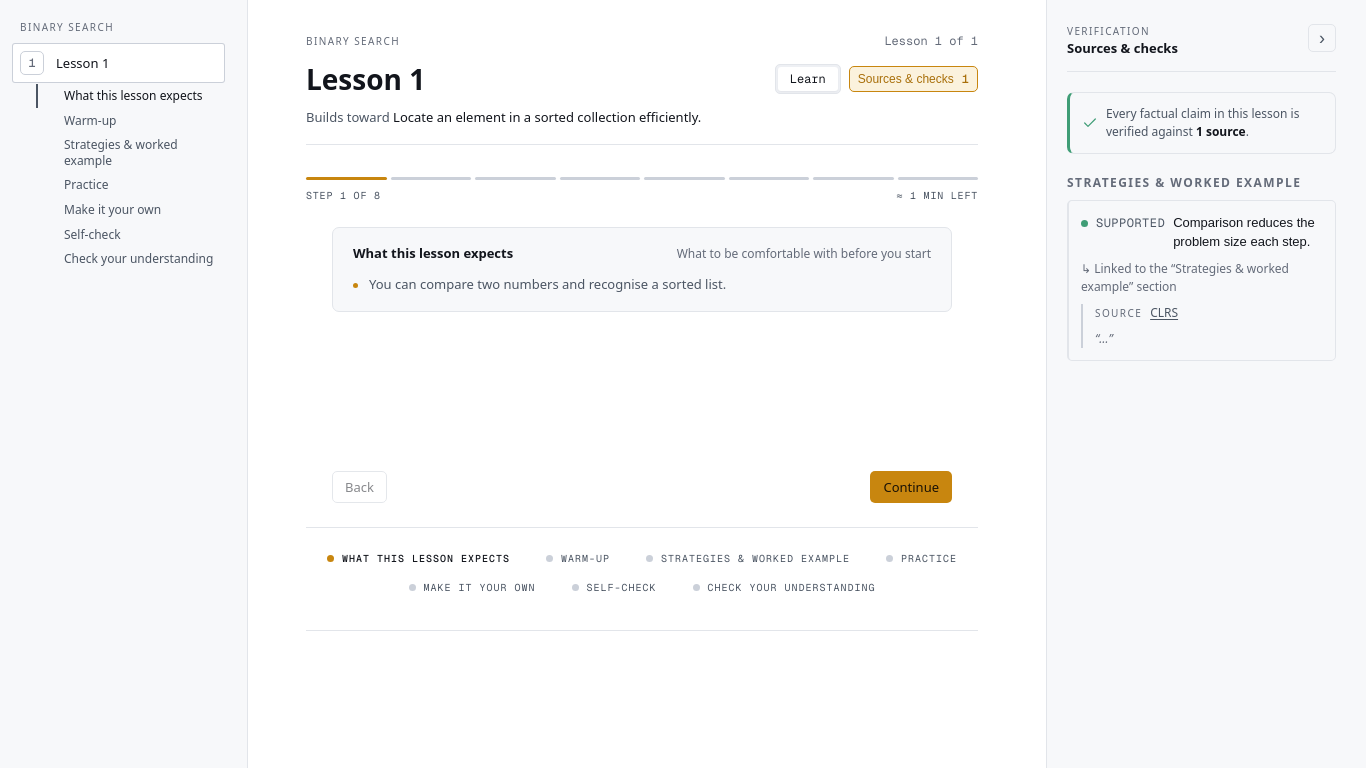
Test: CourseReader — claim → lesson backlink › jumps the Focus Flow to the claim's phase when its rail entry is clicked
Expected: the list item "You can compare two numbers and recognise a sorted list." is shown, [369,275,726,293]
Click the button named "Locate in the lesson: Comparison reduces the problem size each step." at [1202, 232], box [1081,212,1323,252]
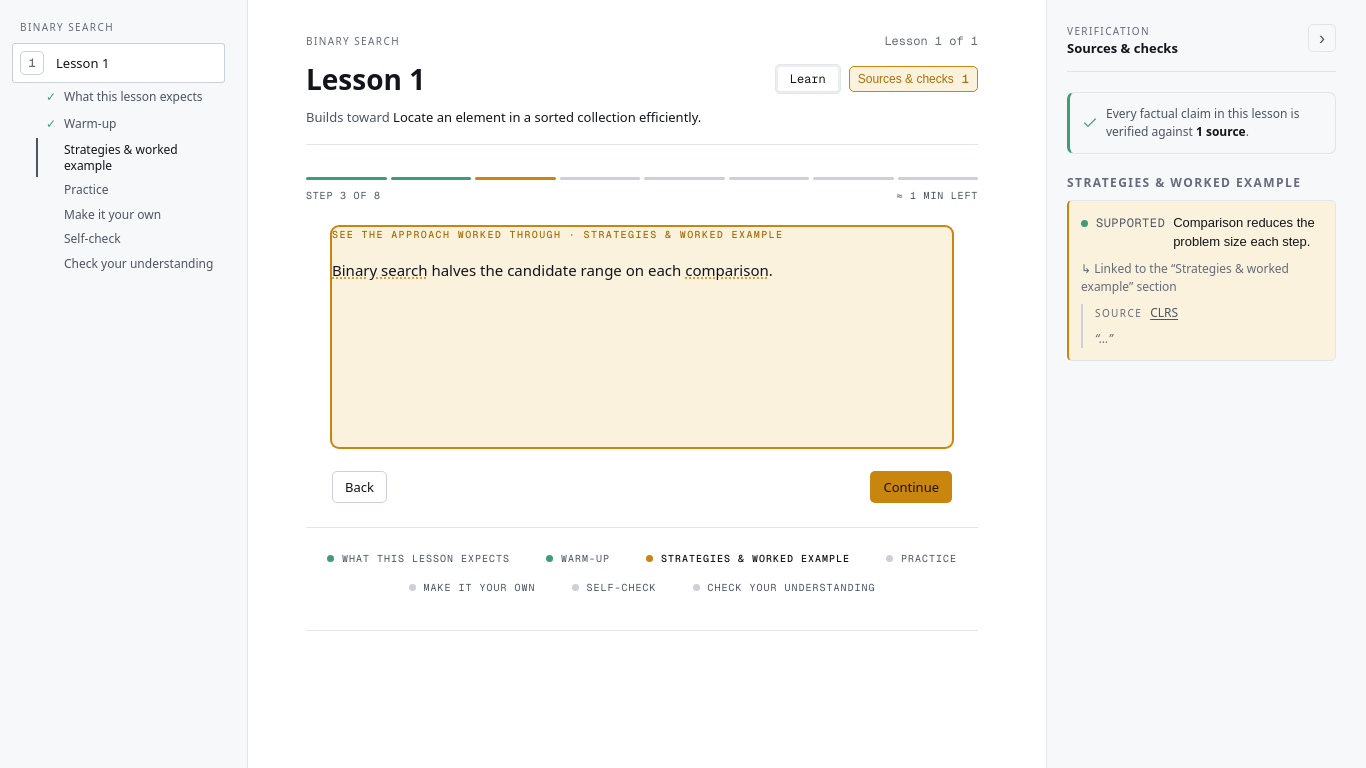
Result: the text "Strategies & worked example" is shown at [584,228,783,240]
Result: the list item "You can compare two numbers" is gone
